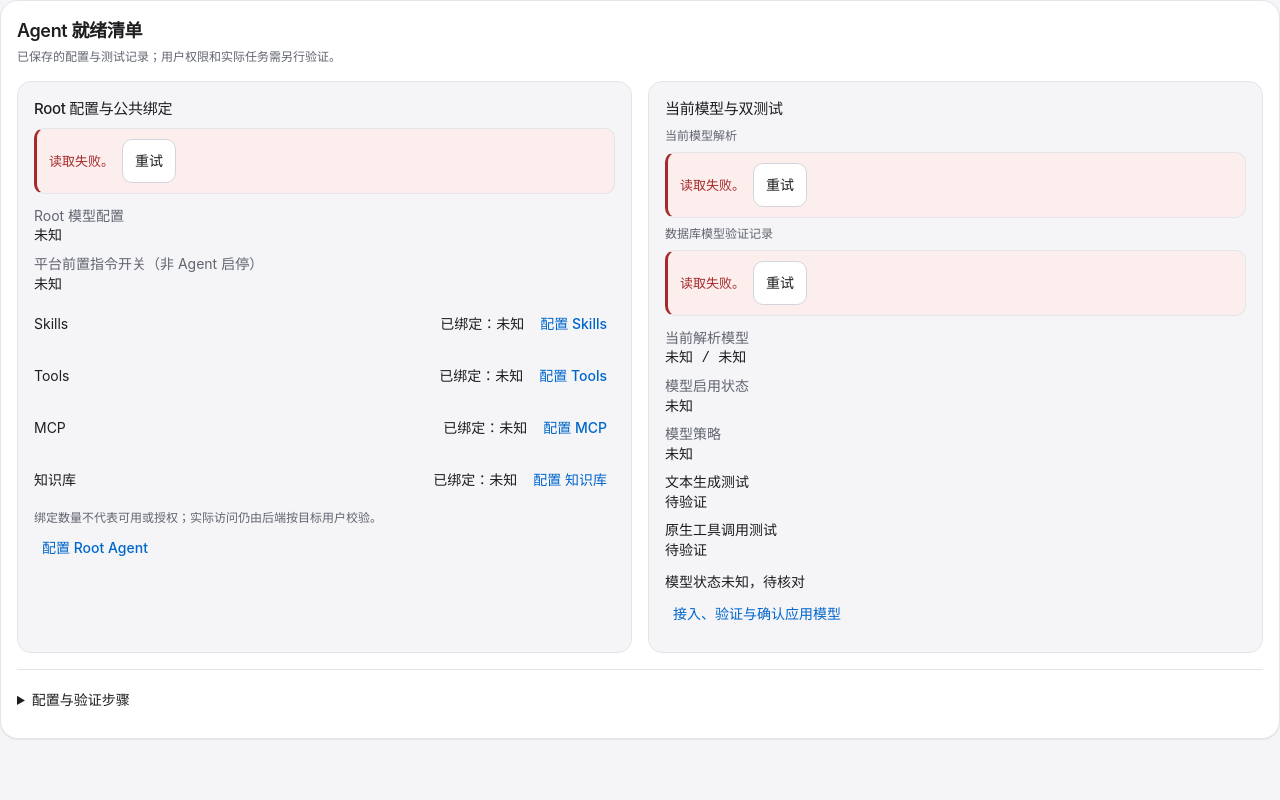
Test: AgentReadiness › renders a Chinese load error with a working local retry
This screenshot has width=1280, height=800.
Expected: the text "读取失败。" is shown 3 times, [49,151,114,171]; [680,175,745,195]; [680,273,745,293]
Click the button "重试" below "Root 配置与公共绑定" at (149, 161), box [122,139,176,183]
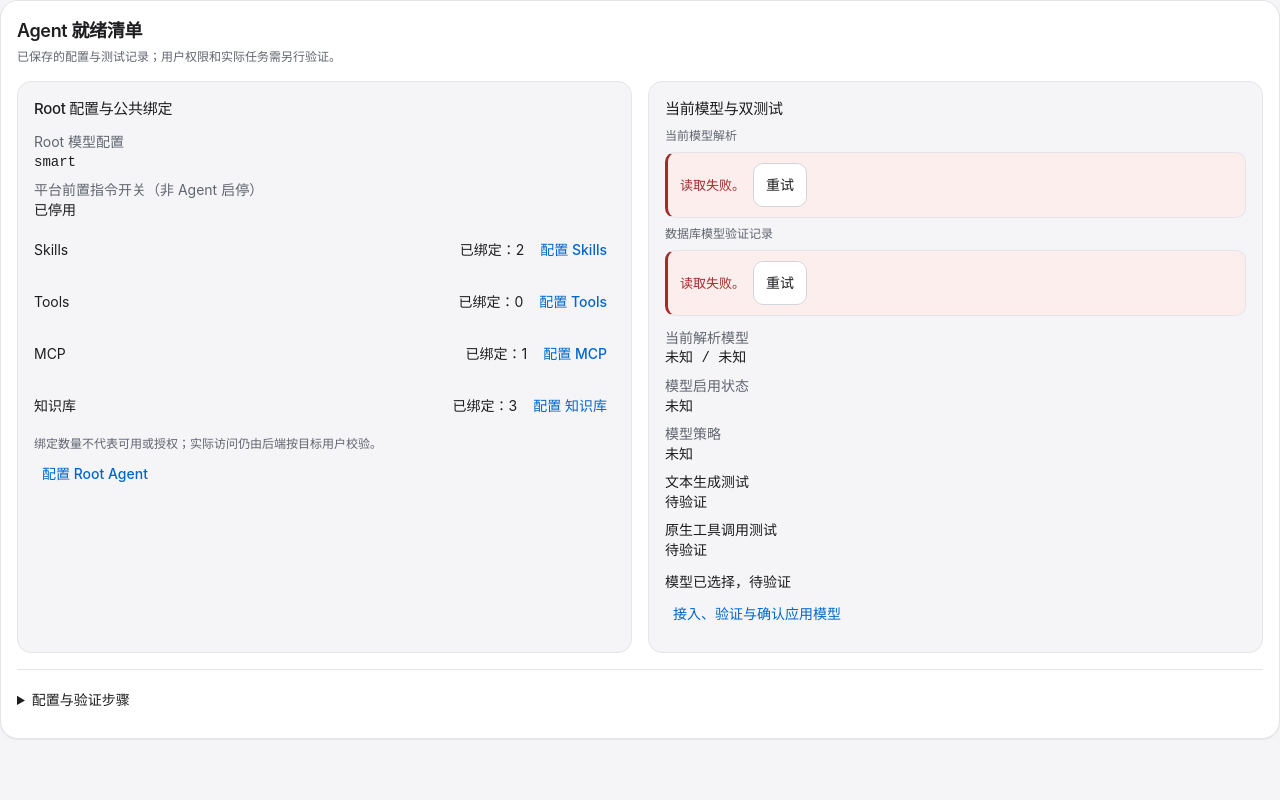
Expected: the number of buttons "重试" is 2, [753,163,807,207]; [753,261,807,305]
Expected: the text "已绑定：2" is shown, [460,240,524,260]
Expected: the text "模型已选择，待验证" is shown, [665,573,791,590]
